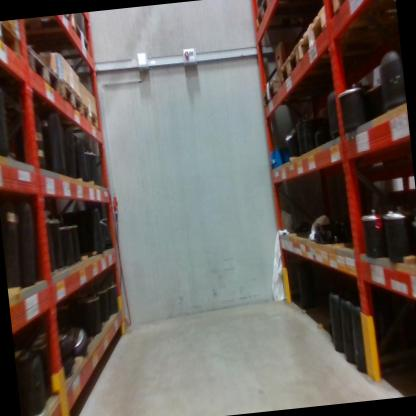pallet: (292, 0, 398, 65), (276, 32, 371, 92), (0, 41, 63, 103), (15, 77, 85, 127), (16, 22, 93, 66), (251, 0, 325, 34), (45, 102, 101, 137), (260, 75, 294, 112), (12, 16, 79, 33), (0, 20, 23, 64), (332, 0, 395, 16)
